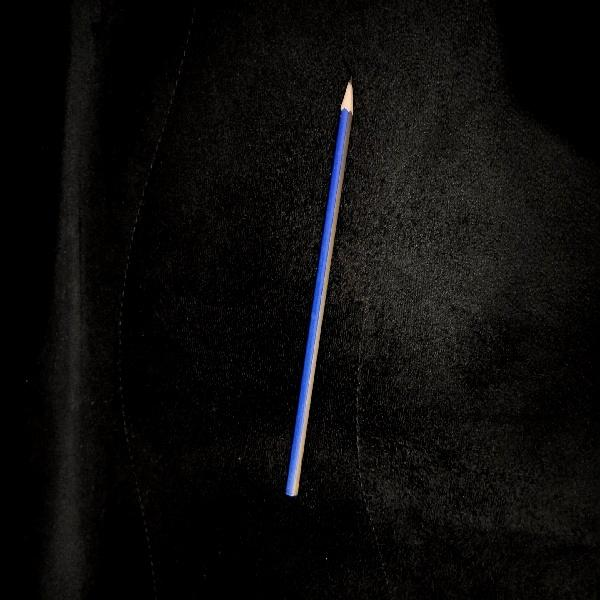pencil: (286, 81, 353, 495)
